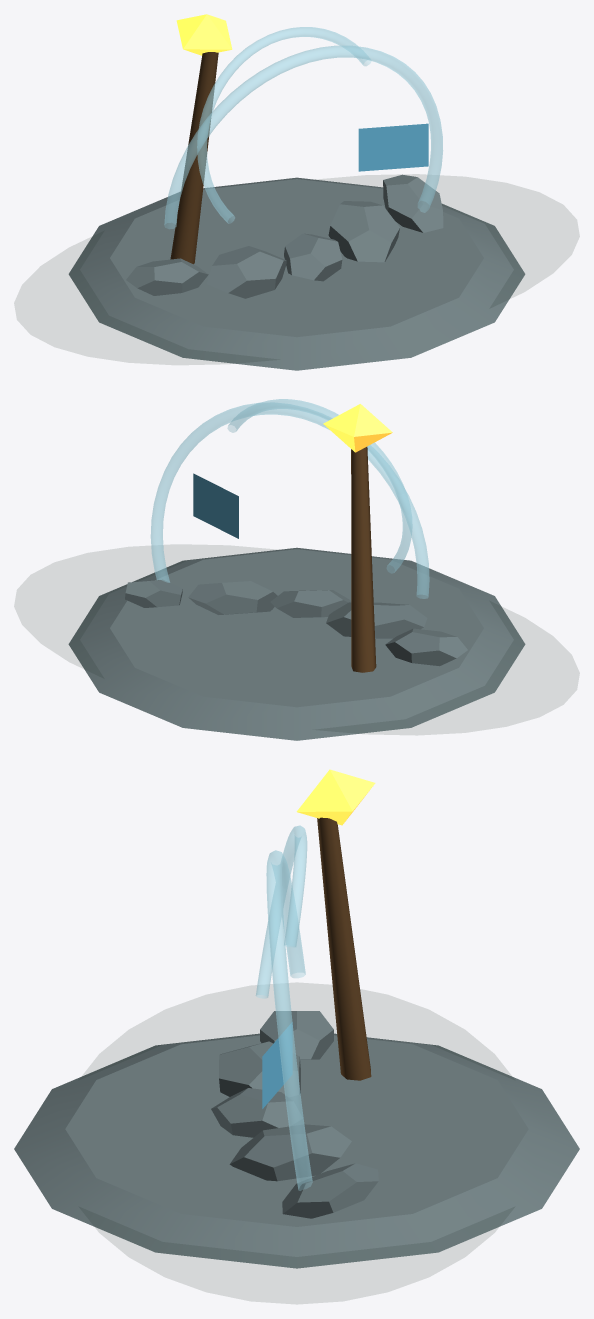
File: fog_trail.glb
The picture shows the model from 3 angles, top to bottom: view 1: azimuth 30°, elevation 25°; view 2: azimuth 150°, elevation 25°; view 3: azimuth 270°, elevation 25°; orthographic projection. The views are drawn at different scales.
Parts seen in each view (by area): view 1: fog_trail_ground_stones, soft_ground_shadow, fog_trail_mist_arc_a, fog_trail_lantern_post, fog_trail_stepping_stone_3, fog_trail_mist_arc_b, fog_trail_blue_tag, fog_trail_stepping_stone_1, fog_trail_stepping_stone_4, fog_trail_stepping_stone_2, fog_trail_stepping_stone_0, fog_trail_lamp; view 2: fog_trail_ground_stones, soft_ground_shadow, fog_trail_mist_arc_a, fog_trail_lantern_post, fog_trail_mist_arc_b, fog_trail_stepping_stone_3, fog_trail_stepping_stone_0, fog_trail_stepping_stone_1, fog_trail_blue_tag, fog_trail_lamp, fog_trail_stepping_stone_2, fog_trail_stepping_stone_4; view 3: fog_trail_ground_stones, soft_ground_shadow, fog_trail_mist_arc_a, fog_trail_lantern_post, fog_trail_stepping_stone_3, fog_trail_mist_arc_b, fog_trail_stepping_stone_4, fog_trail_stepping_stone_2, fog_trail_stepping_stone_1, fog_trail_stepping_stone_0, fog_trail_lamp, fog_trail_blue_tag.
Part boxes in pixels (x1=…): fog_trail_ground_stones: x1=68, y1=177, x2=525, y2=370; soft_ground_shadow: x1=14, y1=174, x2=579, y2=364; fog_trail_mist_arc_a: x1=164, y1=45, x2=442, y2=228; fog_trail_lantern_post: x1=170, y1=52, x2=218, y2=264; fog_trail_stepping_stone_3: x1=328, y1=201, x2=399, y2=262; fog_trail_mist_arc_b: x1=197, y1=27, x2=371, y2=223; fog_trail_blue_tag: x1=358, y1=123, x2=428, y2=171; fog_trail_stepping_stone_1: x1=206, y1=246, x2=286, y2=298; fog_trail_stepping_stone_4: x1=383, y1=174, x2=443, y2=232; fog_trail_stepping_stone_2: x1=284, y1=233, x2=342, y2=281; fog_trail_stepping_stone_0: x1=126, y1=258, x2=208, y2=295; fog_trail_lamp: x1=176, y1=14, x2=232, y2=55; fog_trail_ground_stones: x1=68, y1=547, x2=525, y2=740; soft_ground_shadow: x1=15, y1=545, x2=578, y2=734; fog_trail_mist_arc_a: x1=150, y1=402, x2=429, y2=598; fog_trail_lantern_post: x1=351, y1=447, x2=376, y2=672; fog_trail_mist_arc_b: x1=227, y1=399, x2=412, y2=573; fog_trail_stepping_stone_3: x1=188, y1=581, x2=277, y2=614; fog_trail_stepping_stone_0: x1=385, y1=628, x2=467, y2=666; fog_trail_stepping_stone_1: x1=326, y1=602, x2=427, y2=638; fog_trail_blue_tag: x1=193, y1=473, x2=238, y2=538; fog_trail_lamp: x1=323, y1=404, x2=392, y2=452; fog_trail_stepping_stone_2: x1=270, y1=590, x2=351, y2=617; fog_trail_stepping_stone_4: x1=125, y1=579, x2=182, y2=607; fog_trail_ground_stones: x1=14, y1=1033, x2=579, y2=1268; soft_ground_shadow: x1=80, y1=983, x2=513, y2=1303; fog_trail_mist_arc_a: x1=266, y1=850, x2=312, y2=1190; fog_trail_lantern_post: x1=317, y1=817, x2=371, y2=1080; fog_trail_stepping_stone_3: x1=229, y1=1124, x2=351, y2=1181; fog_trail_mist_arc_b: x1=255, y1=825, x2=307, y2=998; fog_trail_stepping_stone_4: x1=282, y1=1163, x2=378, y2=1218; fog_trail_stepping_stone_2: x1=211, y1=1088, x2=302, y2=1137; fog_trail_stepping_stone_1: x1=219, y1=1041, x2=300, y2=1097; fog_trail_stepping_stone_0: x1=260, y1=1011, x2=333, y2=1059; fog_trail_lamp: x1=296, y1=769, x2=375, y2=825; fog_trail_blue_tag: x1=262, y1=1022, x2=292, y2=1108.
Size of the model in its own units: 3.12 by 1.51 by 2.32.
